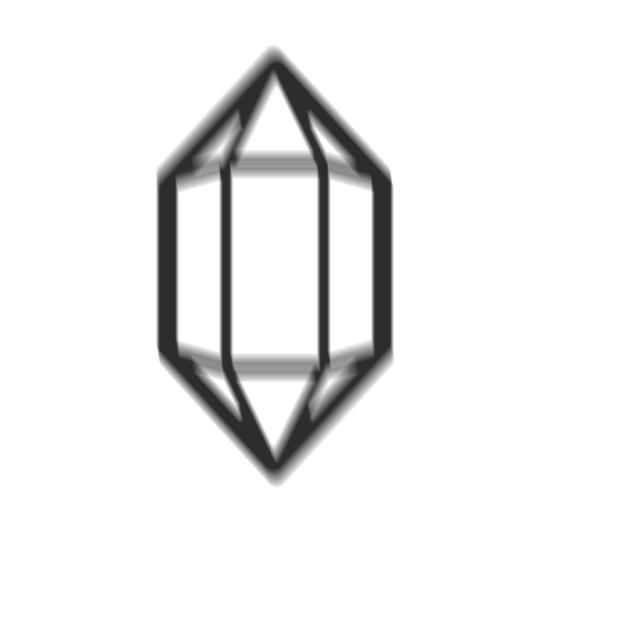crystal: (148, 37, 406, 494)
